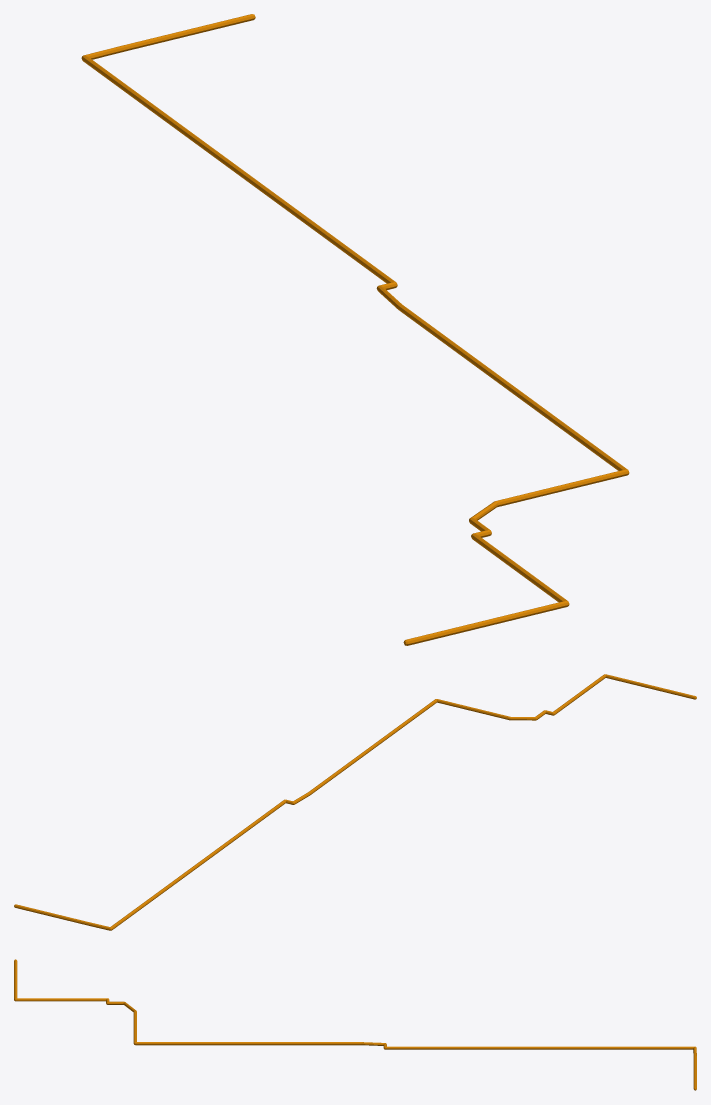
3 views of the same model, one above another, from view 1: azimuth 30°, elevation 25°; view 2: azimuth 150°, elevation 25°; view 3: azimuth 270°, elevation 25° (orthographic). The views are drawn at different scales.
Size of the model in its own units: 1831 by 20 by 4081.
